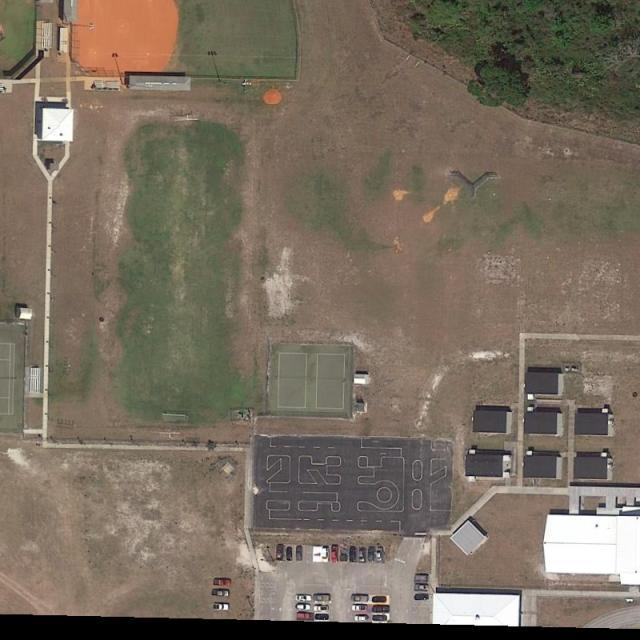vehicle: (295, 611, 315, 621), (212, 602, 230, 612), (351, 594, 369, 604), (214, 578, 231, 588), (295, 594, 313, 603), (366, 546, 376, 562), (276, 545, 285, 562), (313, 594, 330, 603), (358, 546, 367, 563), (322, 546, 331, 562), (414, 593, 430, 602), (372, 605, 390, 613), (372, 595, 388, 604), (212, 589, 229, 597), (331, 545, 339, 562), (350, 546, 358, 563), (313, 605, 330, 613), (415, 583, 430, 592), (354, 614, 370, 622), (286, 546, 294, 562), (352, 604, 368, 612), (297, 603, 312, 611), (376, 547, 384, 562), (316, 613, 330, 621), (296, 546, 303, 562), (373, 615, 389, 622)
